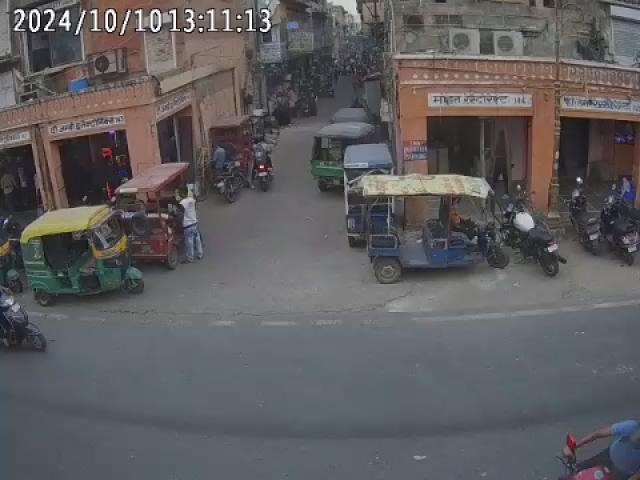auto: (360, 172, 512, 286), (24, 203, 143, 307), (309, 120, 393, 193)
motorbike: (508, 198, 566, 276)
motorbike-rider: (248, 138, 276, 193), (210, 142, 235, 186)
scooty: (602, 194, 638, 268), (566, 176, 599, 253)
